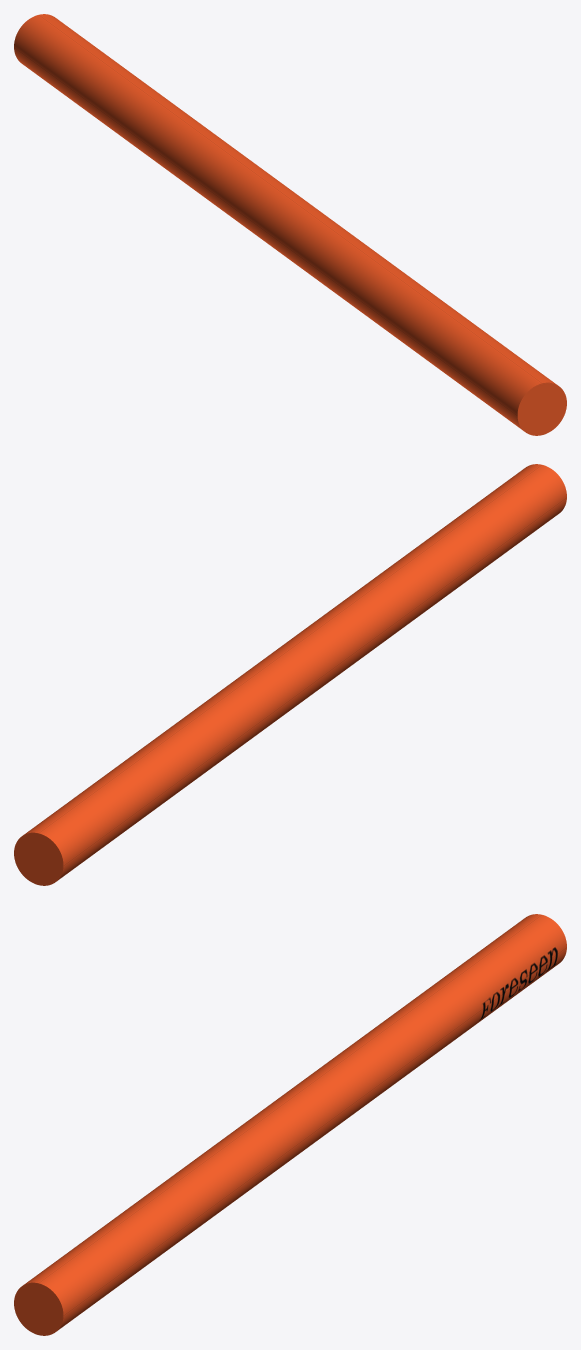
File: Asset10.gltf
3 renders of one model, top to bottom at view 1: azimuth 30°, elevation 25°; view 2: azimuth 150°, elevation 25°; view 3: azimuth 330°, elevation 25°, orthographic.
Size of the model in its own units: 0.0258 by 0.0258 by 0.4559.
Materials: 1 (1 with a texture image).
